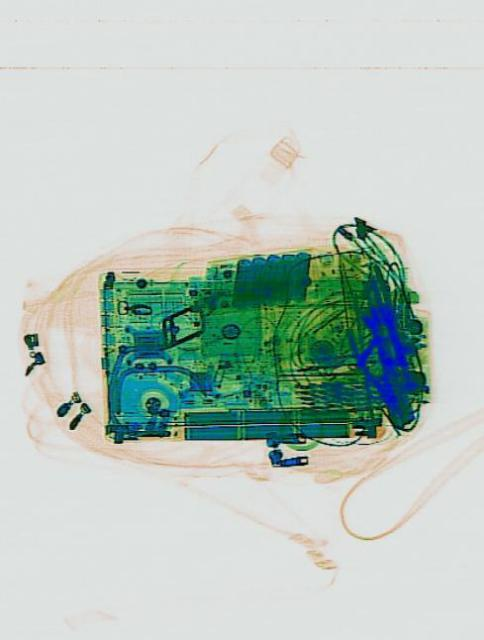Pliers: (338, 312, 413, 426)
